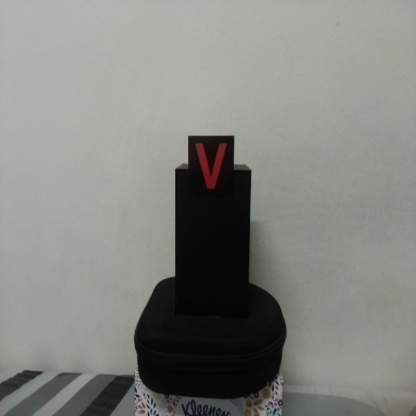id_11: (188, 135, 235, 198)
